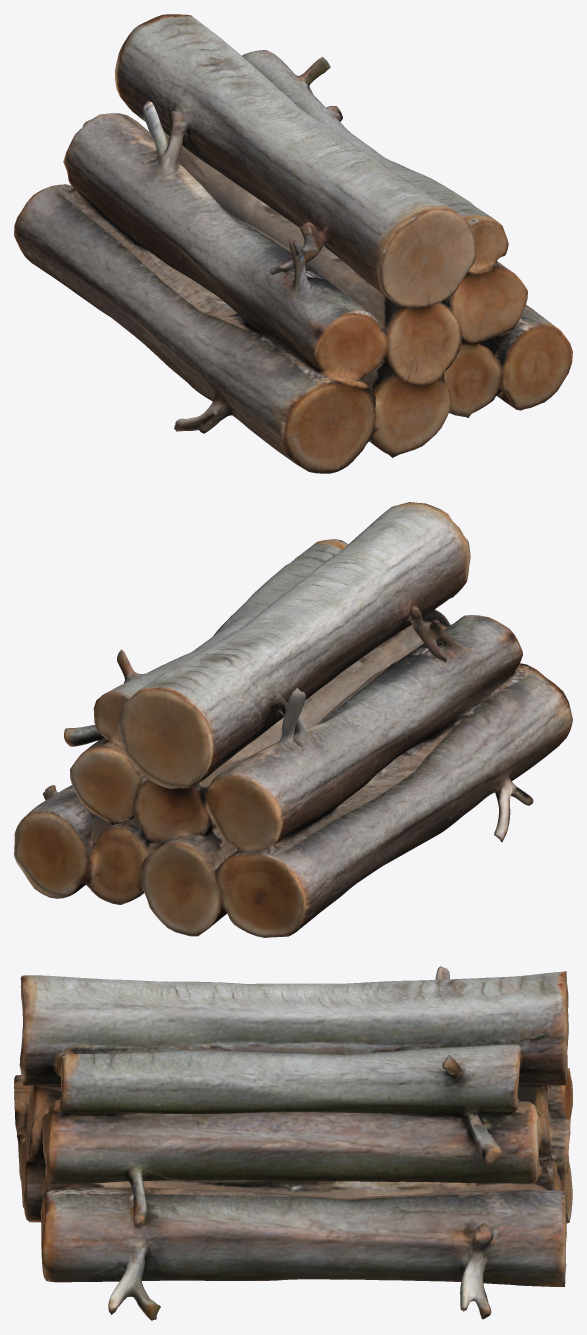
File: A_Log_Pile_0425083925_refine.fbx
3 renders of one model, top to bottom at view 1: azimuth 30°, elevation 25°; view 2: azimuth 150°, elevation 25°; view 3: azimuth 270°, elevation 25°, orthographic. The views are drawn at different scales.
Visible parts, largest first — view 1: Mesh_0; view 2: Mesh_0; view 3: Mesh_0.
Boxes of the visible parts, left/top/right/bottom form: Mesh_0: left=14, top=14, right=572, bottom=473; Mesh_0: left=14, top=502, right=572, bottom=937; Mesh_0: left=14, top=966, right=572, bottom=1320.
Bounding box in the file's own units: 151 × 98.95 × 199.
Materials: 1 (1 with a texture image).
